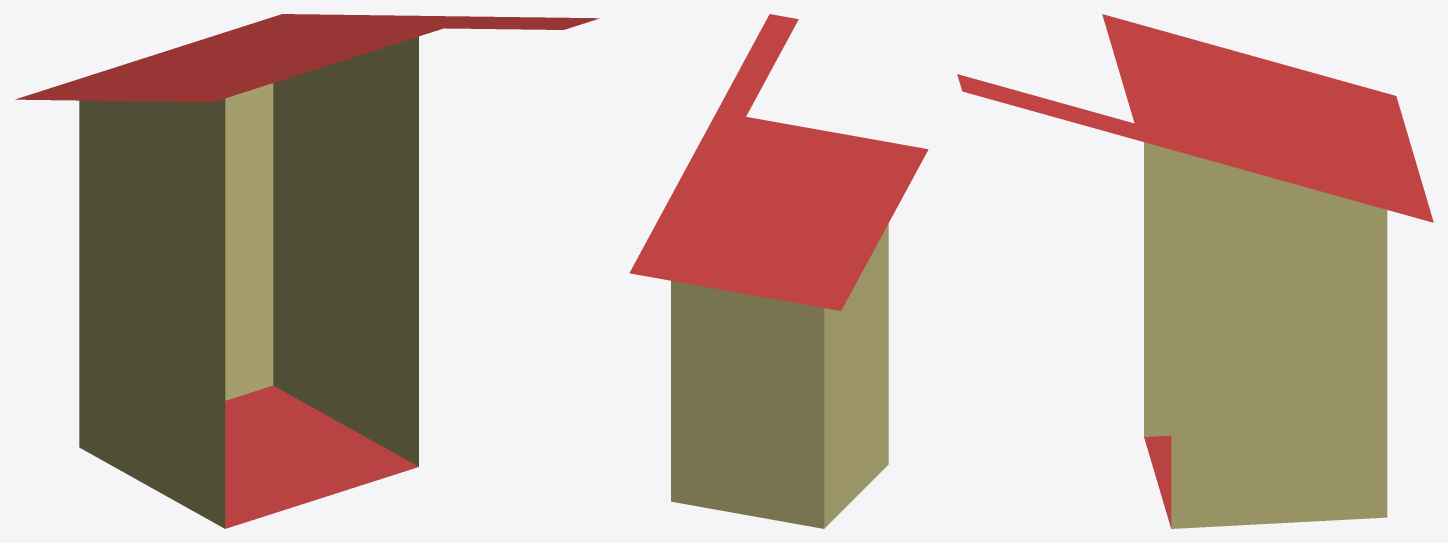
The picture shows the model from 3 angles, left to right: view 1: azimuth 30°, elevation 25°; view 2: azimuth 150°, elevation 25°; view 3: azimuth 270°, elevation 25°; orthographic projection. The views are drawn at different scales.
Bounding box in the file's own units: 6.45 × 8.56 × 9.24.
